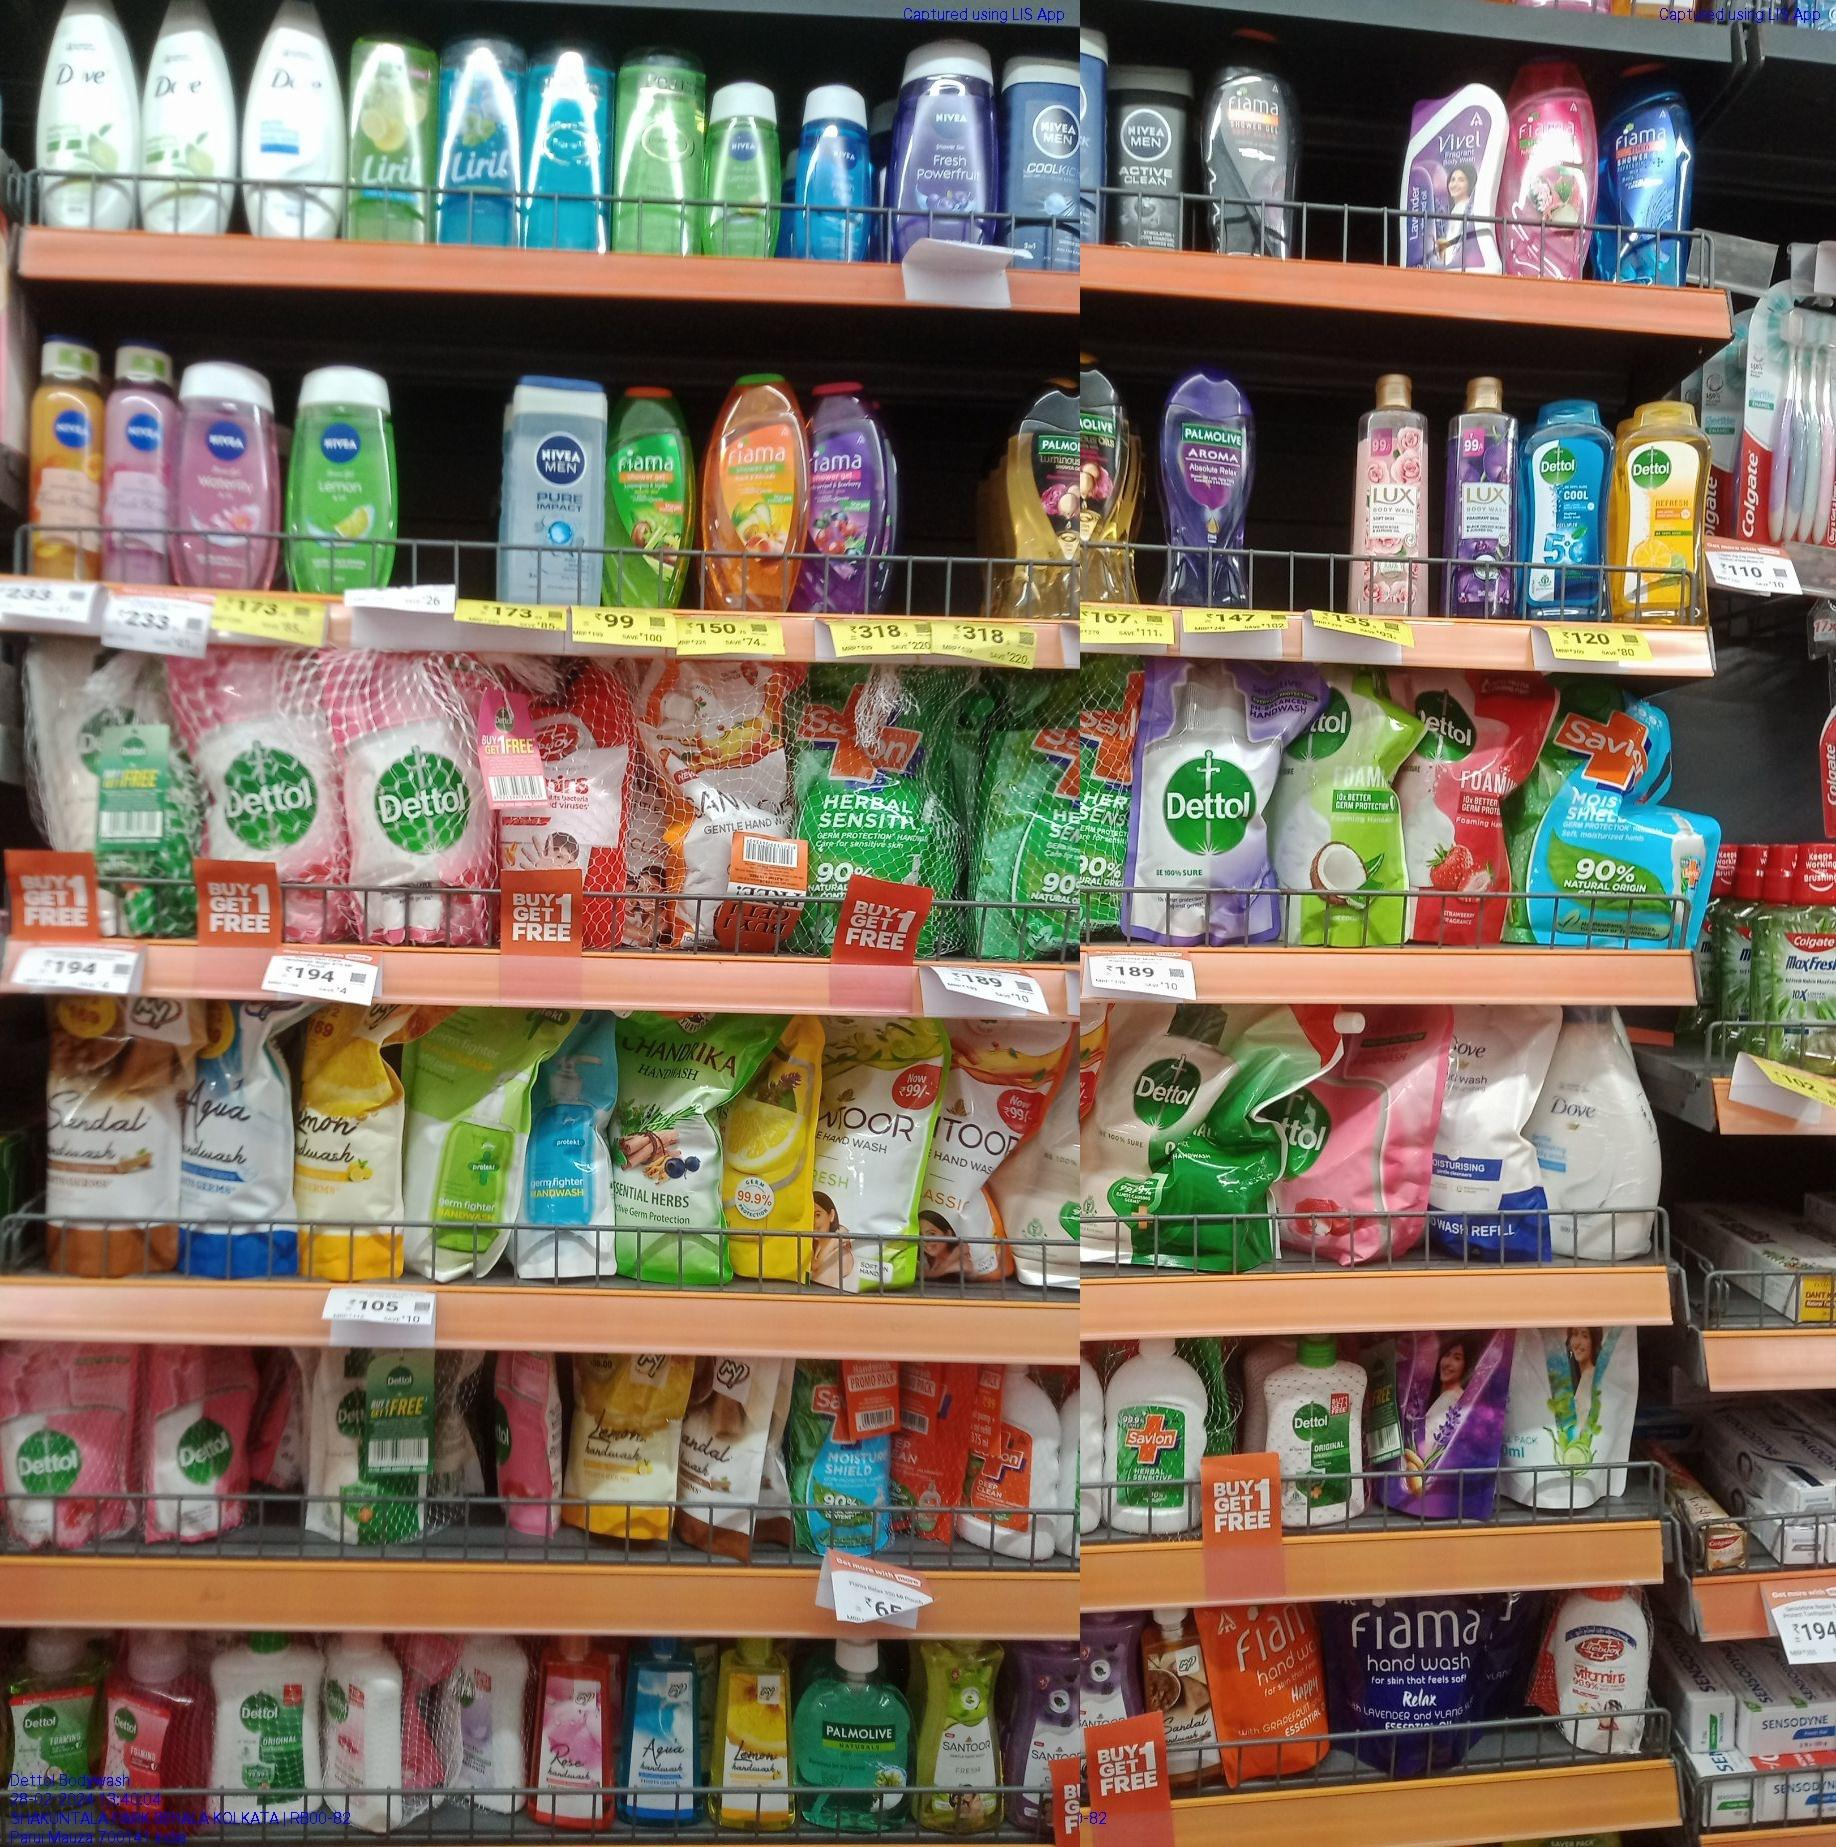Dettol_Bodywash_Cool: (1527, 395, 1609, 622)
Dettol_Bodywash_Refresh: (1614, 398, 1700, 625)
Dove_Gentle_Exfoliating_Body_Wash_250ML: (244, 3, 340, 244)
Dove_Refreshing_Body_Wash_250ML: (39, 0, 133, 230), (141, 2, 232, 237)
Fiama_Shower_Gel_Lemongrass_and_Jojoba_250ML: (604, 378, 688, 612)
Fiama_Shower_Gel_Patchouli_and_Macadamia_250ML: (1508, 50, 1597, 286)
Fiama_Shower_Gel_Peach_and_Avocado_250ML: (703, 373, 797, 618)
Liril_Cooling_Mint_Body_Wash_250ML: (439, 13, 523, 249)
Liril_Lime_and_Tea_Tree_Oil_Body_Wash_250ML: (346, 12, 435, 249)
Lux_Black_Orchid_Scent_and_Juniper_Oil_Body_Wash_245ML: (1444, 373, 1520, 624)
Nivea_Shower_Gel_Fresh_Powerfruit_250ML: (888, 34, 985, 264)
Nivea_Shower_Gel_Lemon_and_Oil_250ML: (288, 365, 393, 597)
Nivea_Shower_Gel_Waterlily_and_Oil_250ML: (177, 355, 277, 592)
Palmolive_Aroma_Relax_250ML: (1162, 371, 1253, 613)
Palmolive_Luminous_Oils_Invigorating_Macadamia_Oil_With_Peony_250ML: (1010, 380, 1083, 627)
Pears_Pure_Glycerin_and_Lemon_Flower_Extracts_Body_Wash_250ML: (615, 24, 703, 254)
Pears_Pure_Glycerin_and_Mint_Extracts_Body_Wash_250ML: (528, 22, 609, 254)
